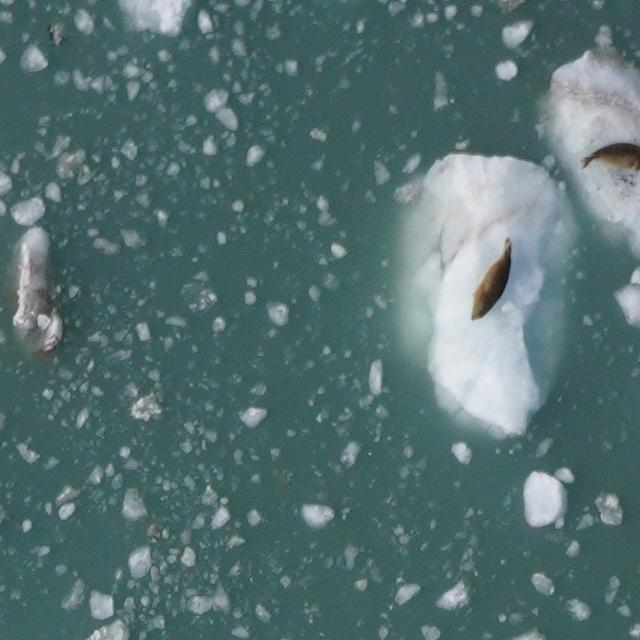seal: (466, 233, 519, 324), (575, 137, 640, 177)
